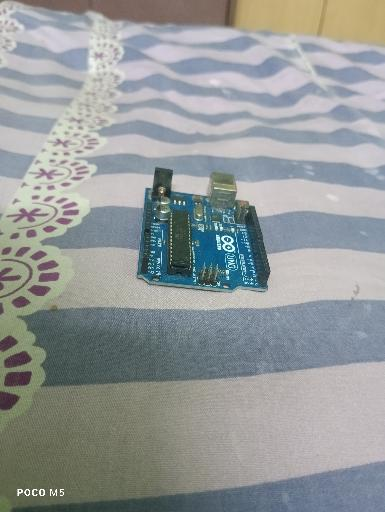Arduino: (137, 165, 273, 294)
